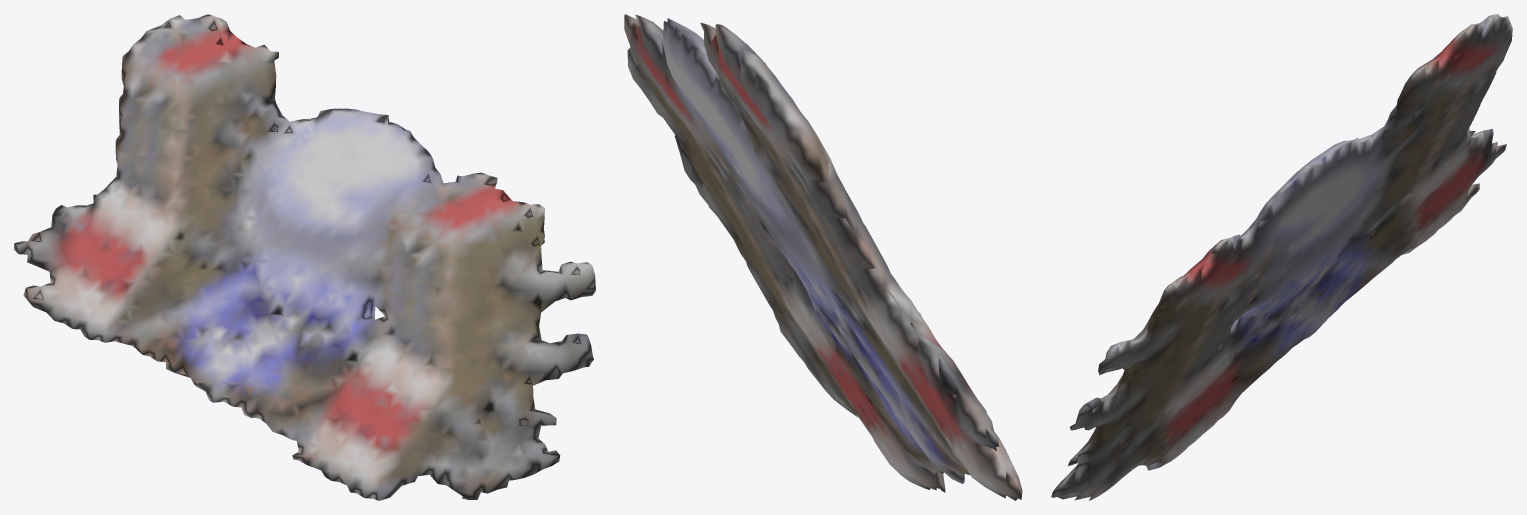
The model's file is soviet_tesla_reactor.glb.
3 views of the same model, side by side, from view 1: azimuth 30°, elevation 25°; view 2: azimuth 150°, elevation 25°; view 3: azimuth 270°, elevation 25° (orthographic). The views are drawn at different scales.
Visible parts, largest first — view 1: soviet_tesla_reactor; view 2: soviet_tesla_reactor; view 3: soviet_tesla_reactor.
Boxes of the visible parts, <box> form: soviet_tesla_reactor: <box>14,14,595,500</box>; soviet_tesla_reactor: <box>624,14,1022,500</box>; soviet_tesla_reactor: <box>1051,14,1512,500</box>.
Size of the model in its own units: 1.73 by 1.58 by 1.54.
